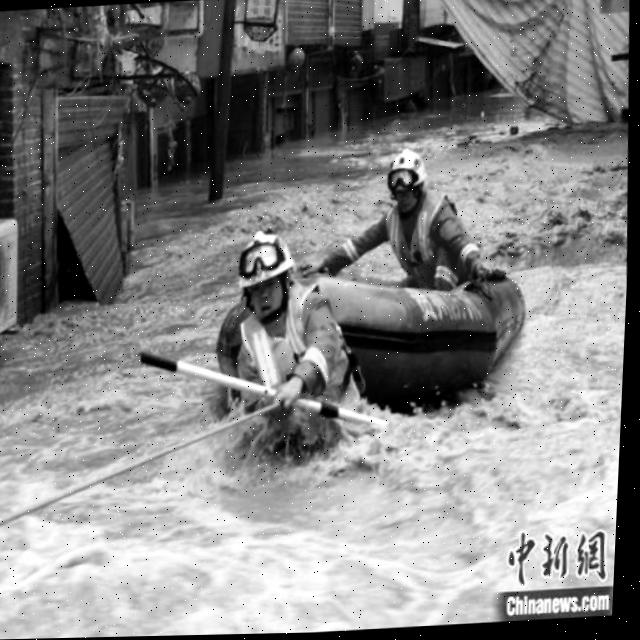rescuer: (213, 220, 378, 451), (293, 138, 504, 312)
